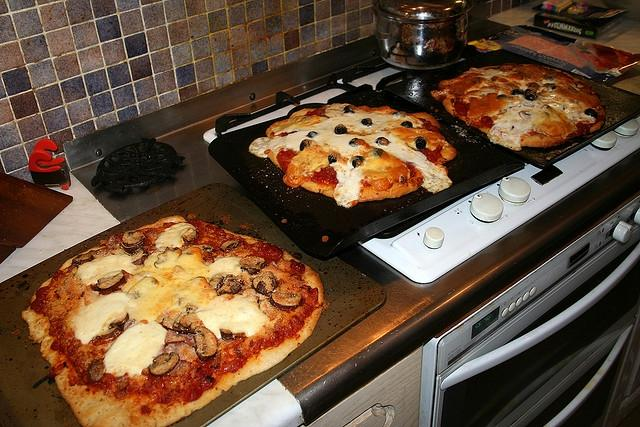mushroom: (90, 312, 128, 346), (148, 351, 180, 378), (194, 326, 218, 361), (270, 288, 304, 310), (154, 246, 182, 269), (216, 274, 244, 296), (96, 271, 124, 290), (238, 256, 266, 275), (180, 312, 205, 332), (72, 250, 98, 265), (88, 360, 105, 382), (122, 230, 145, 246), (256, 276, 275, 294), (220, 328, 245, 340), (220, 239, 240, 251), (163, 316, 177, 332), (190, 276, 210, 286)
